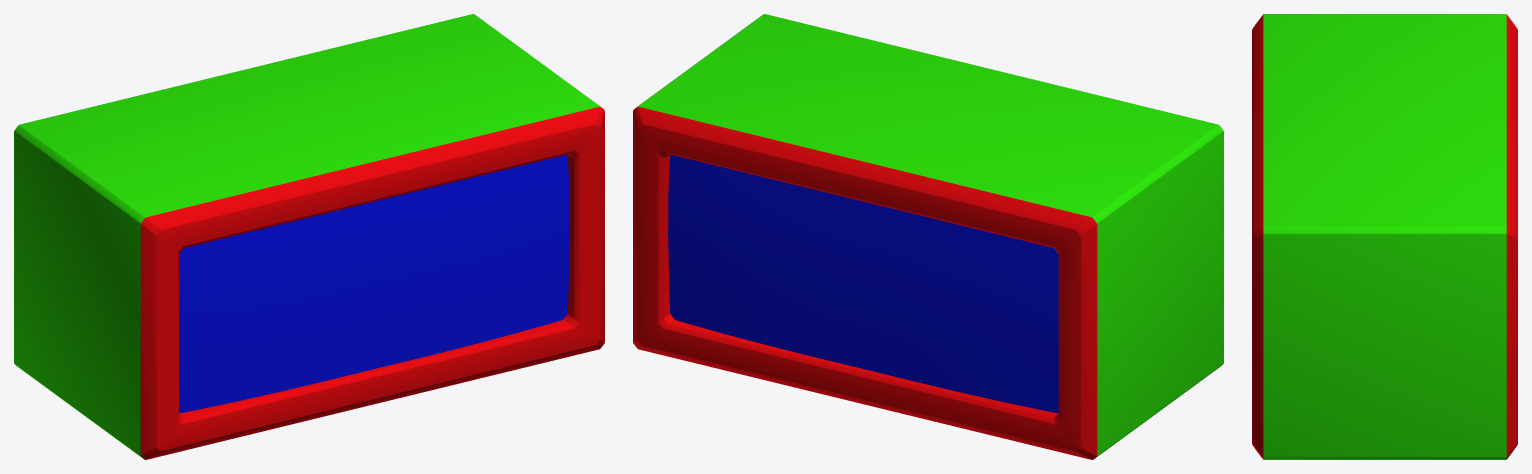
Rendered from RectBlockBase_low.fbx.
3 renders of one model, left to right at view 1: azimuth 30°, elevation 25°; view 2: azimuth 150°, elevation 25°; view 3: azimuth 270°, elevation 25°, orthographic. The views are drawn at different scales.
Parts seen in each view (by area): view 1: BaseRectPegg_low; view 2: BaseRectPegg_low; view 3: BaseRectPegg_low.
Part boxes in pixels (x1,y1,x2,y2): BaseRectPegg_low: (14,14,604,459); BaseRectPegg_low: (633,14,1223,459); BaseRectPegg_low: (1252,14,1517,459).
Bounding box in the file's own units: 400 × 200 × 207.
